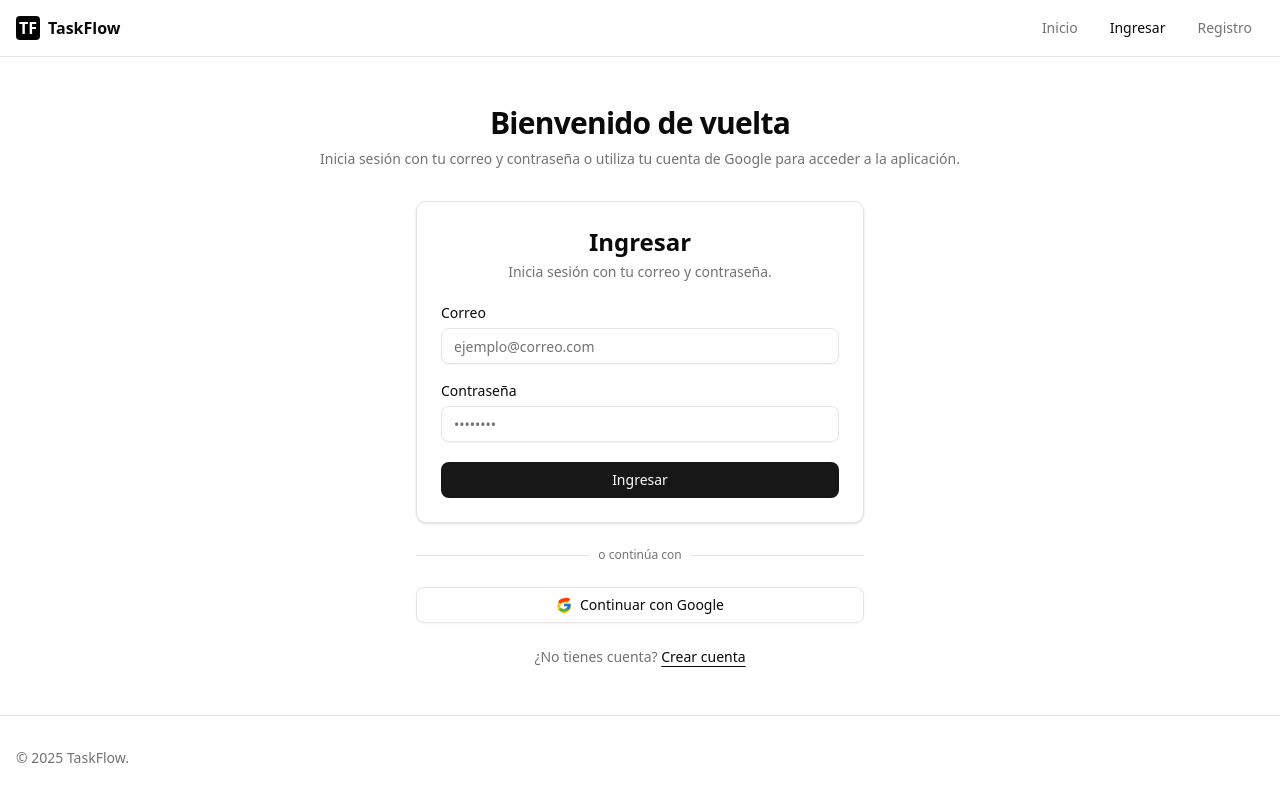
Test: Autenticación - Inicio de sesión › flujo fallido: credenciales incorrectas muestra error y permanece en /login
Check: the heading "Bienvenido de vuelta" is shown, box [490,102,790,143]
Check: the button "Ingresar" is shown, box [441,462,839,498]
Type "alice@example.com" into the field labelled "Correo" at (640, 346), box [441,328,839,364]
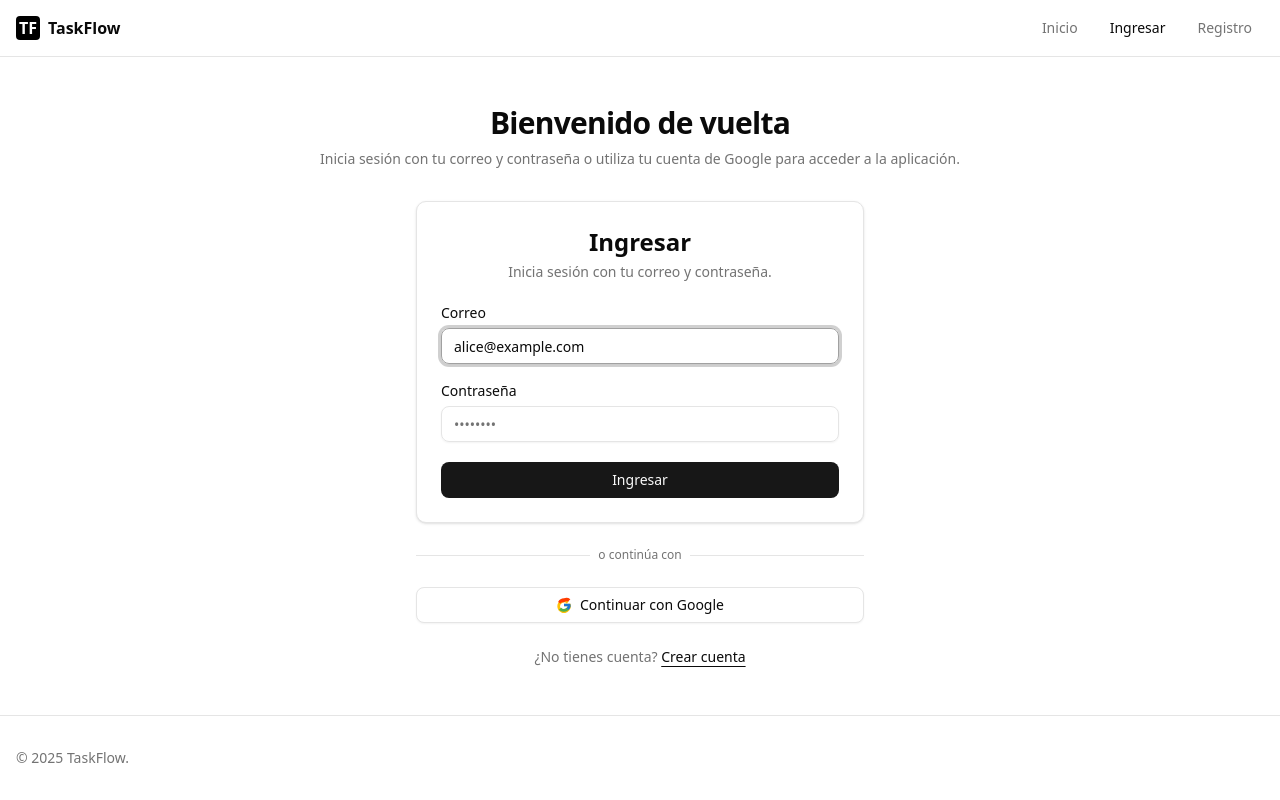
Type "wrong12" into the password field labelled "Contraseña" at (640, 424), box [441,406,839,442]
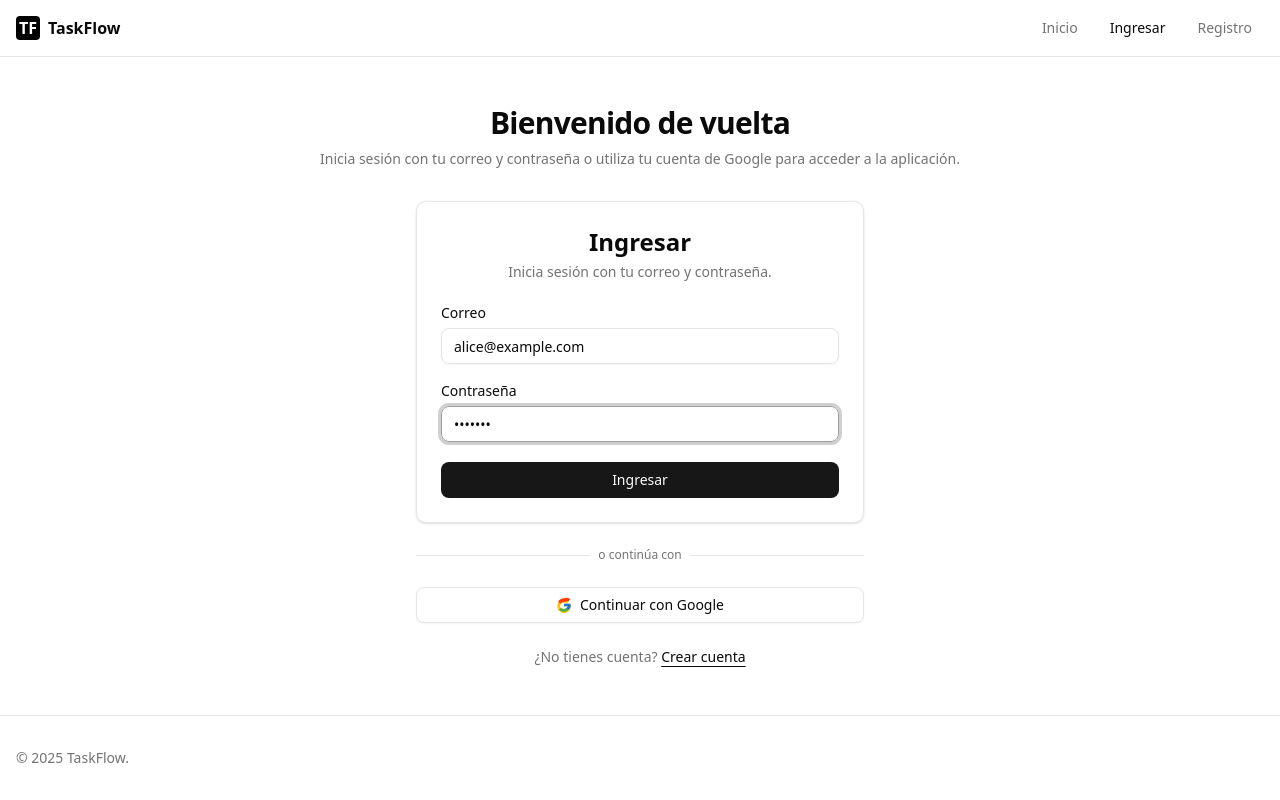
Click the button "Ingresar" at (640, 480), box [441,462,839,498]
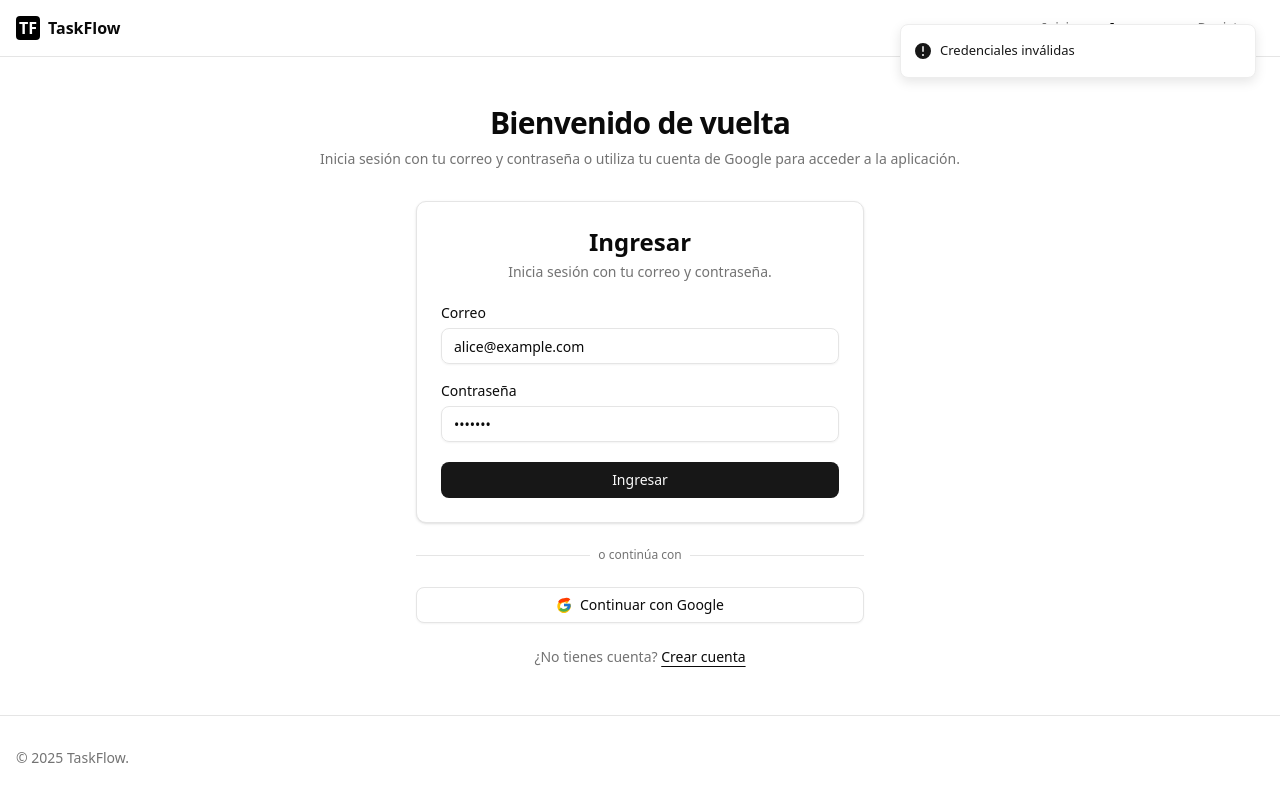
Check: the text "Credenciales inválidas" is shown, box [940,41,1075,60]
